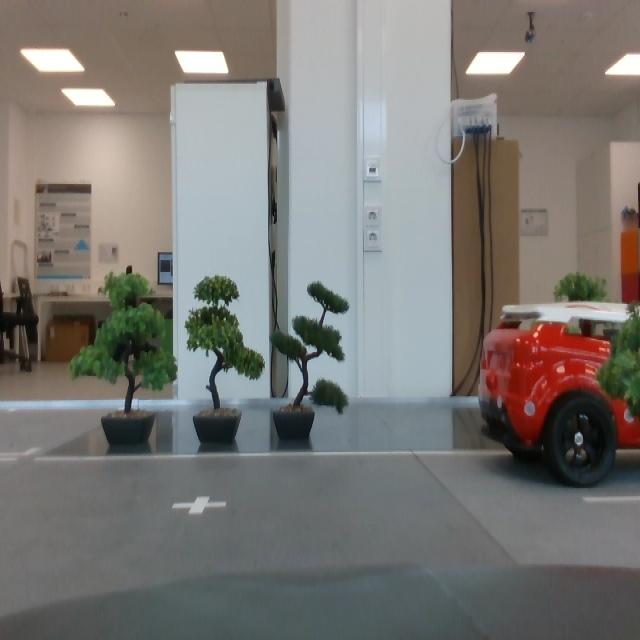car: (478, 301, 640, 488)
potted plant: (70, 275, 178, 447), (185, 276, 265, 443), (270, 280, 350, 440), (552, 272, 612, 406), (596, 300, 640, 418)
